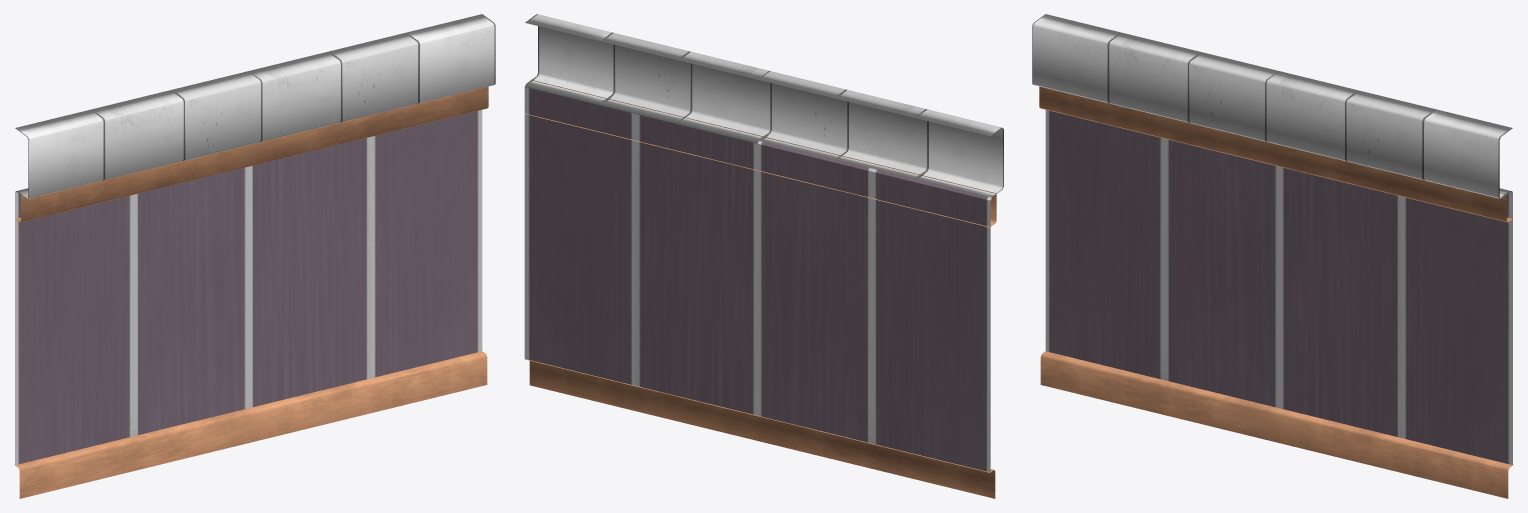
Rendered from SM_Facade_04.fbx.
3 renders of one model, left to right at view 1: azimuth 30°, elevation 25°; view 2: azimuth 150°, elevation 25°; view 3: azimuth 330°, elevation 25°, orthographic.
Parts seen in each view (by area): view 1: SM_Facade_04; view 2: SM_Facade_04; view 3: SM_Facade_04.
Boxes of the visible parts, x1,y1,x2,y2 form: SM_Facade_04: (14, 14, 495, 498); SM_Facade_04: (524, 14, 1003, 498); SM_Facade_04: (1032, 14, 1513, 498).
Size of the model in its own units: 640 by 33.05 by 480.
